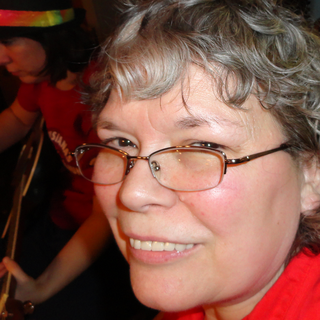eye: (175, 132, 229, 162), (98, 131, 142, 155)
